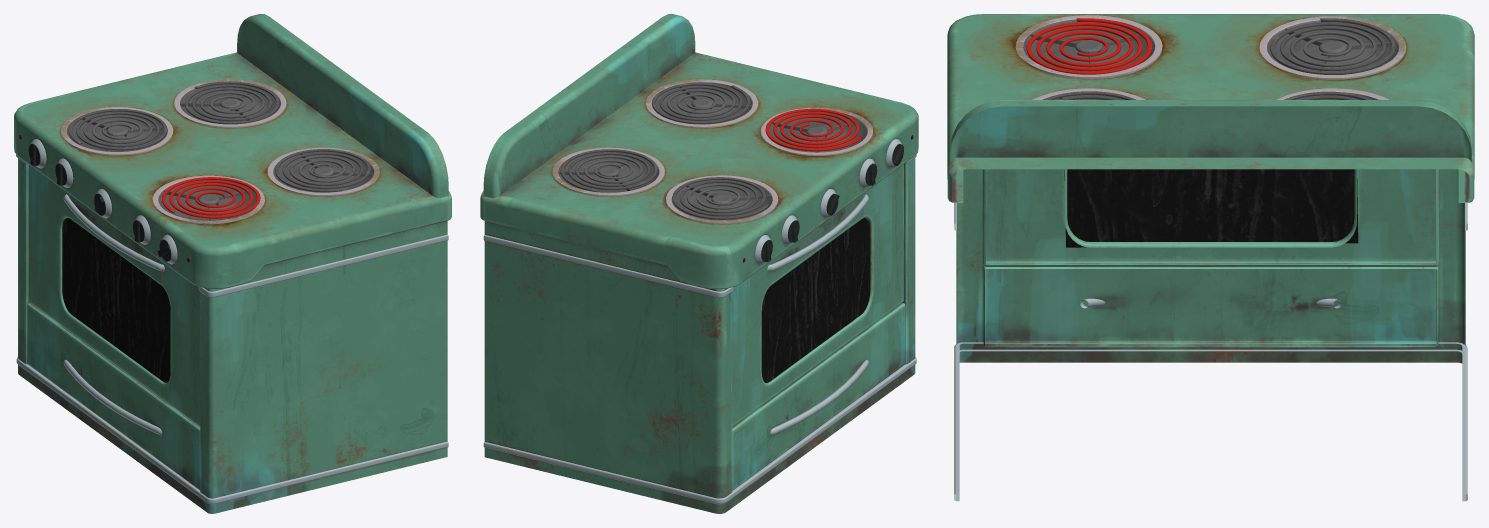
The model's file is SM_Stove_A.fbx.
3 renders of one model, left to right at view 1: azimuth 30°, elevation 25°; view 2: azimuth 150°, elevation 25°; view 3: azimuth 270°, elevation 25°, orthographic. The views are drawn at different scales.
Visible parts, largest first — view 1: SM_Stove_A_LOD0; view 2: SM_Stove_A_LOD0; view 3: SM_Stove_A_LOD0.
Part boxes in pixels (x1,y1,x2,y2): SM_Stove_A_LOD0: [14, 14, 451, 513]; SM_Stove_A_LOD0: [480, 14, 918, 513]; SM_Stove_A_LOD0: [947, 14, 1474, 501].
Bounding box in the file's own units: 104 × 142 × 121.
1 material, 1 textured.
